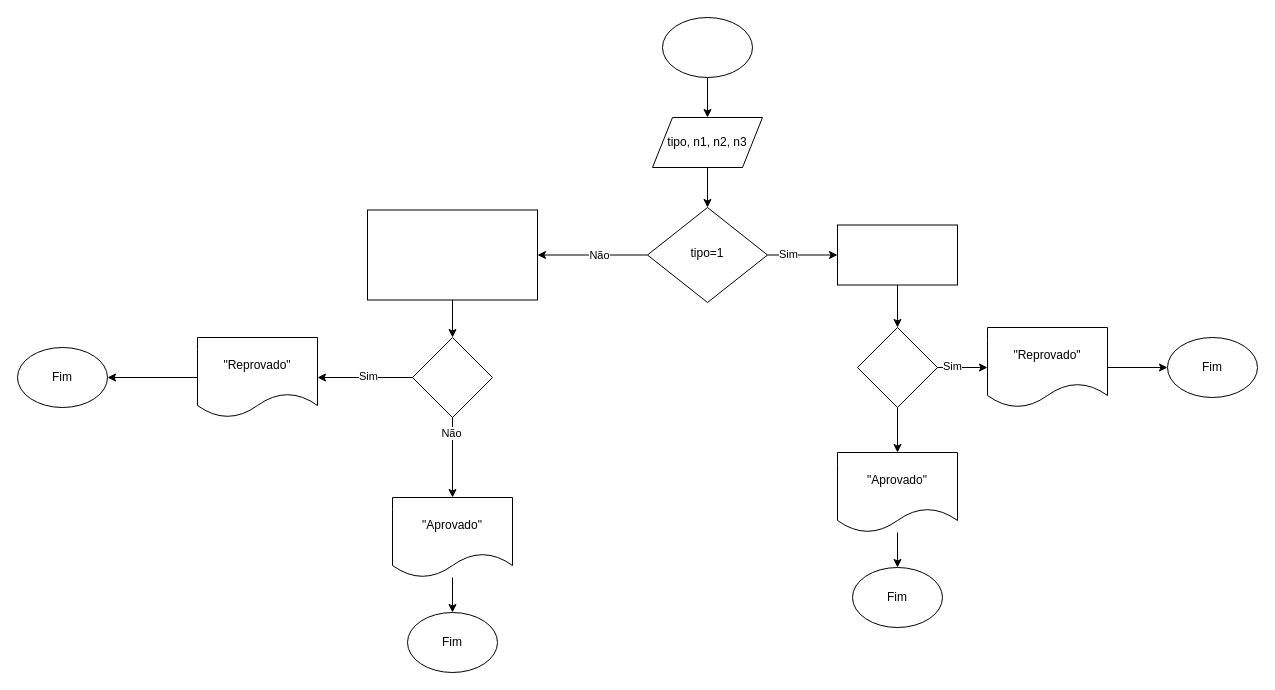
This 1275x690 diagram has some shape labels left out. The centre of each missing label's shape, as x and y in pixels:
"Inicio" belongs at (x=707, y=47).
"m = (n1 + n2 +n3)/3" belongs at (x=897, y=254).
"m<6" belongs at (x=897, y=367).
"mp<6" belongs at (x=452, y=377).
"mp=((n1*3,3)+(n2*3,3)+(n3*3,3))/3,3+3,3+3,3" belongs at (x=452, y=254).
